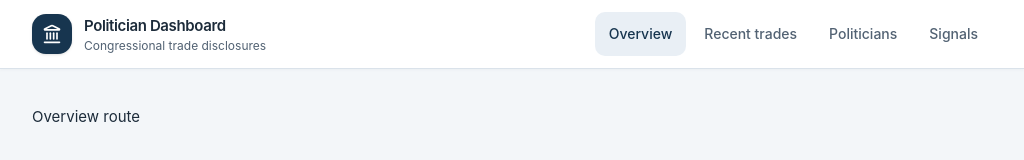
Test: Layout navigation › navigates to the selected page and marks its link current
The image size is (1024, 160).
Click the link "Recent trades". click: (751, 34)
box: [704,25,797,42]
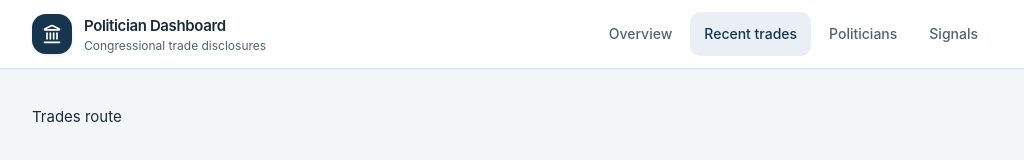
Now the text "Trades route" is shown, box [32,107,122,126]
